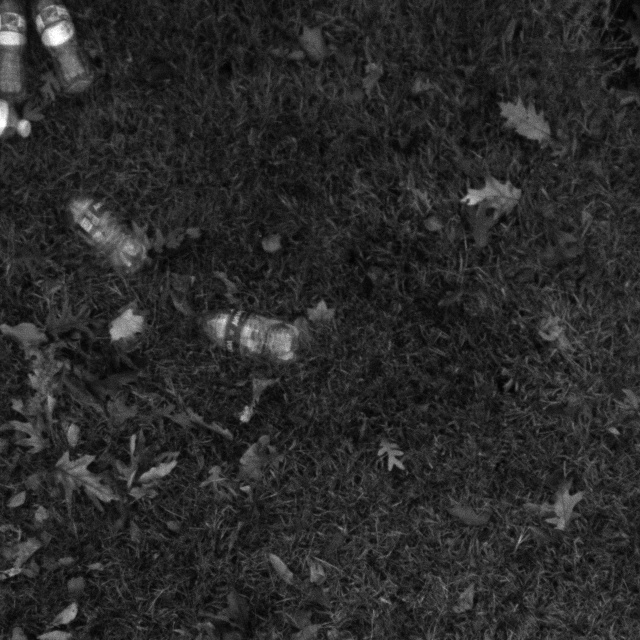bottle: (59, 186, 160, 285), (183, 300, 312, 369), (31, 1, 107, 100)
